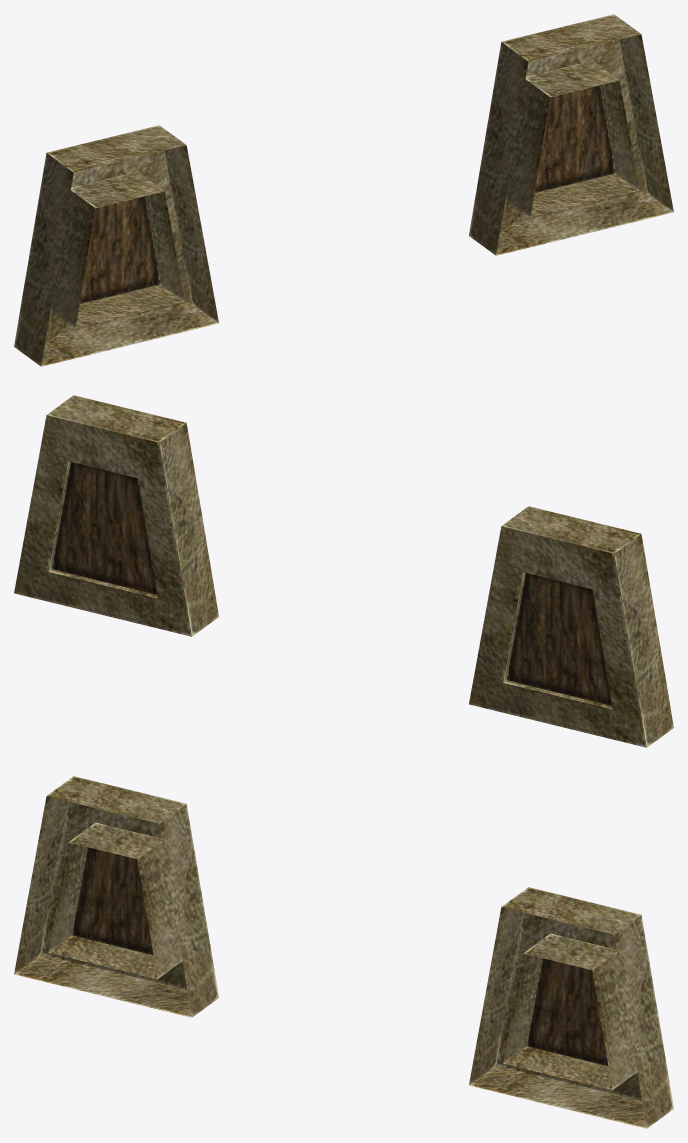
File: hrt_window9.glb
3 views of the same model, one above another, from view 1: azimuth 30°, elevation 25°; view 2: azimuth 150°, elevation 25°; view 3: azimuth 330°, elevation 25° (orthographic).
Parts seen in each view (by area): view 1: hrt_window9; view 2: hrt_window9; view 3: hrt_window9.
Part boxes in pixels (bbox=[...]): hrt_window9: bbox=[14, 14, 673, 366]; hrt_window9: bbox=[14, 395, 673, 747]; hrt_window9: bbox=[14, 776, 673, 1128].
Size of the model in its own units: 3.51 by 0.9856 by 0.2616.
Materials: 1 (1 with a texture image).
